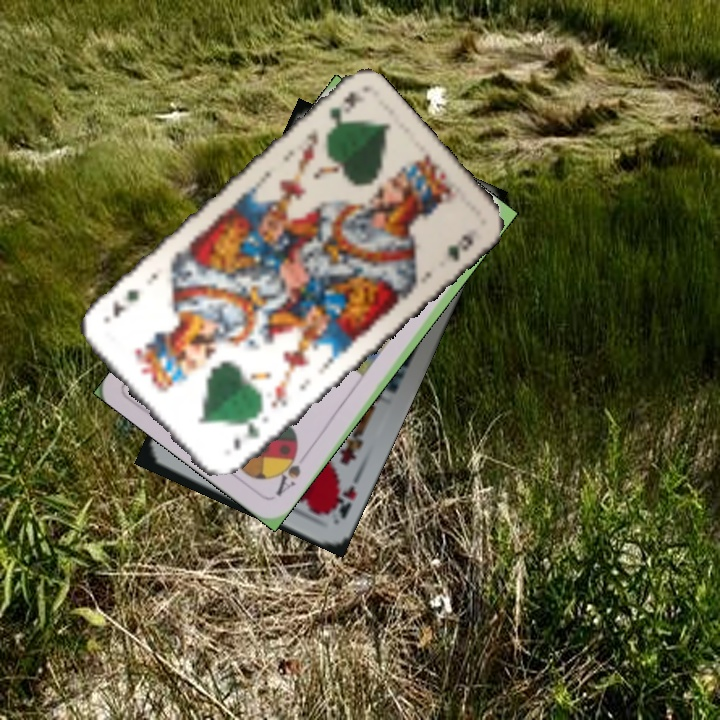GK: (325, 87, 365, 127), (228, 418, 263, 453)
HK: (323, 470, 361, 521)
SA: (272, 444, 304, 499)
